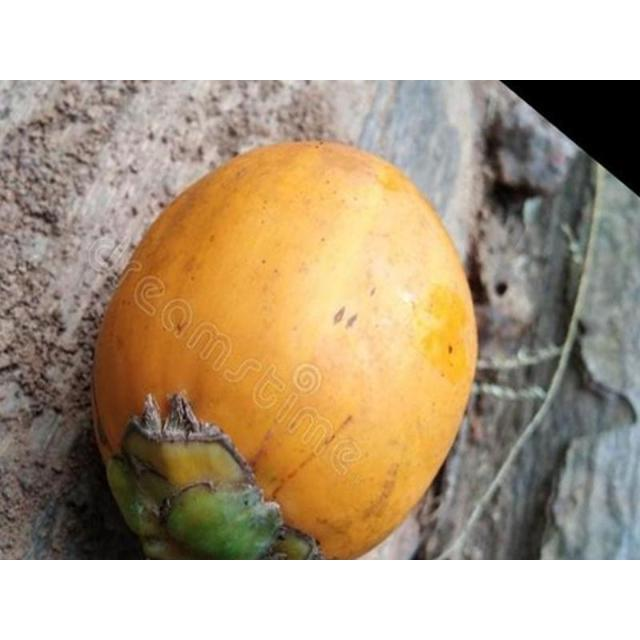good: (91, 141, 479, 559)
